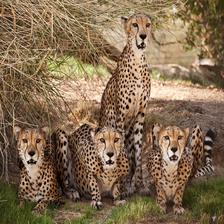Cheetah: (97, 12, 151, 198), (141, 121, 219, 216), (5, 124, 80, 206), (64, 121, 129, 209)
